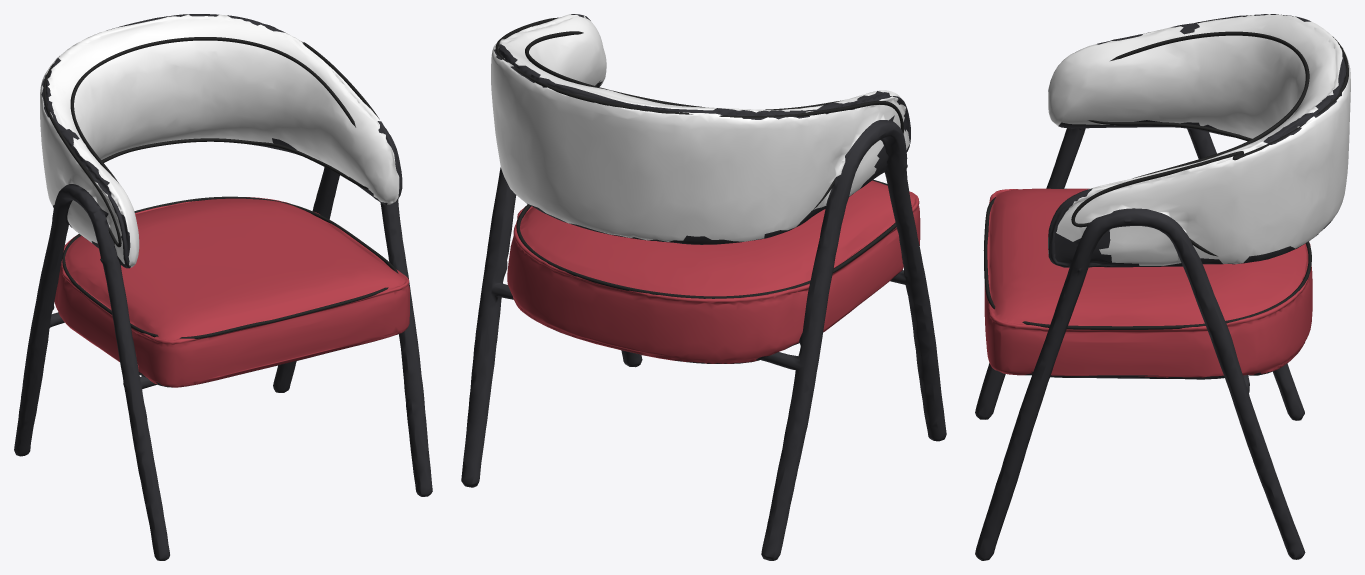
Rendered from koltuk-3.glb.
3 views of the same model, side by side, from view 1: azimuth 30°, elevation 25°; view 2: azimuth 150°, elevation 25°; view 3: azimuth 270°, elevation 25° (orthographic). The views are drawn at different scales.
Visible parts, largest first — view 1: Kadife, Kumas, Metal, Biye; view 2: Kumas, Kadife, Metal, Biye; view 3: Kumas, Kadife, Metal, Biye.
Part boxes in pixels (box(x1,y1,x2,y2)): Kadife: box(54, 197, 409, 387); Kumas: box(40, 14, 399, 267); Metal: box(14, 14, 432, 560); Biye: box(43, 37, 398, 338); Kumas: box(491, 14, 909, 241); Kadife: box(507, 180, 920, 363); Metal: box(461, 14, 946, 560); Biye: box(495, 17, 903, 298); Kumas: box(1048, 14, 1350, 265); Kadife: box(984, 188, 1312, 377); Metal: box(975, 14, 1346, 560); Biye: box(983, 17, 1348, 329).
Bounding box in the file's own units: 0.6672 × 0.81 × 0.6536.
